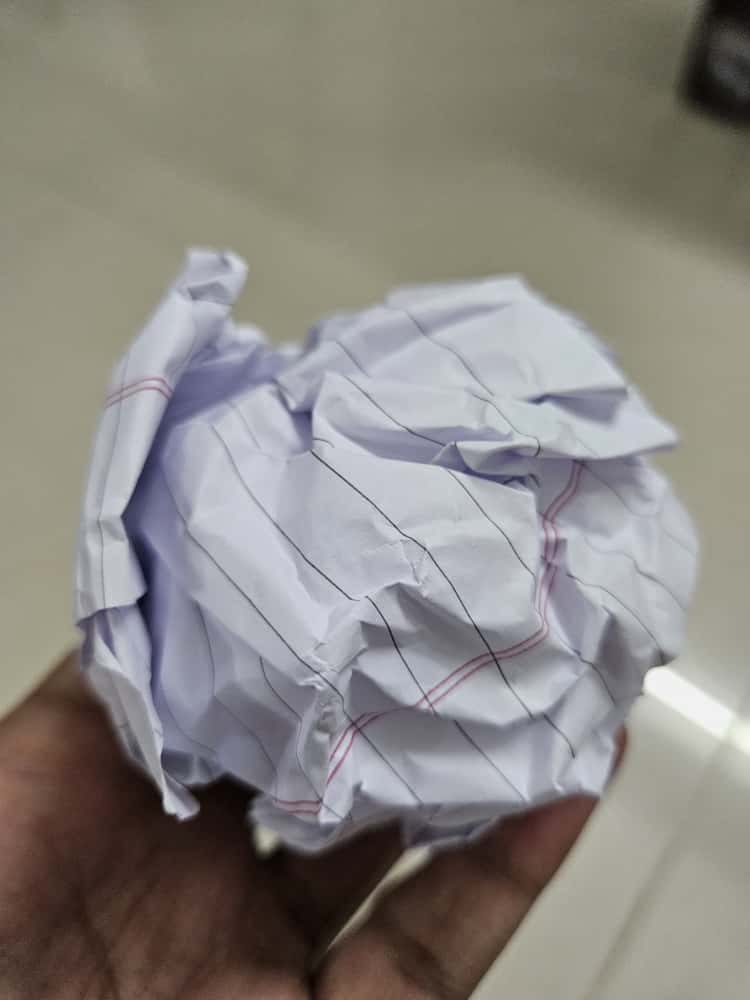dry: (55, 238, 707, 877)
